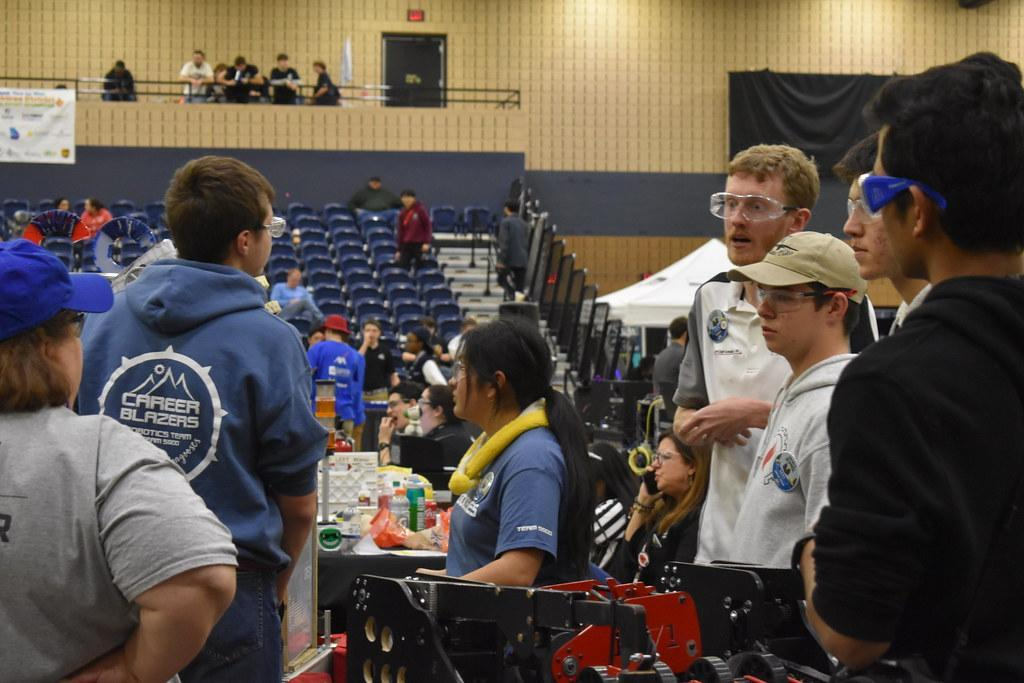robot: (340, 552, 874, 683)
